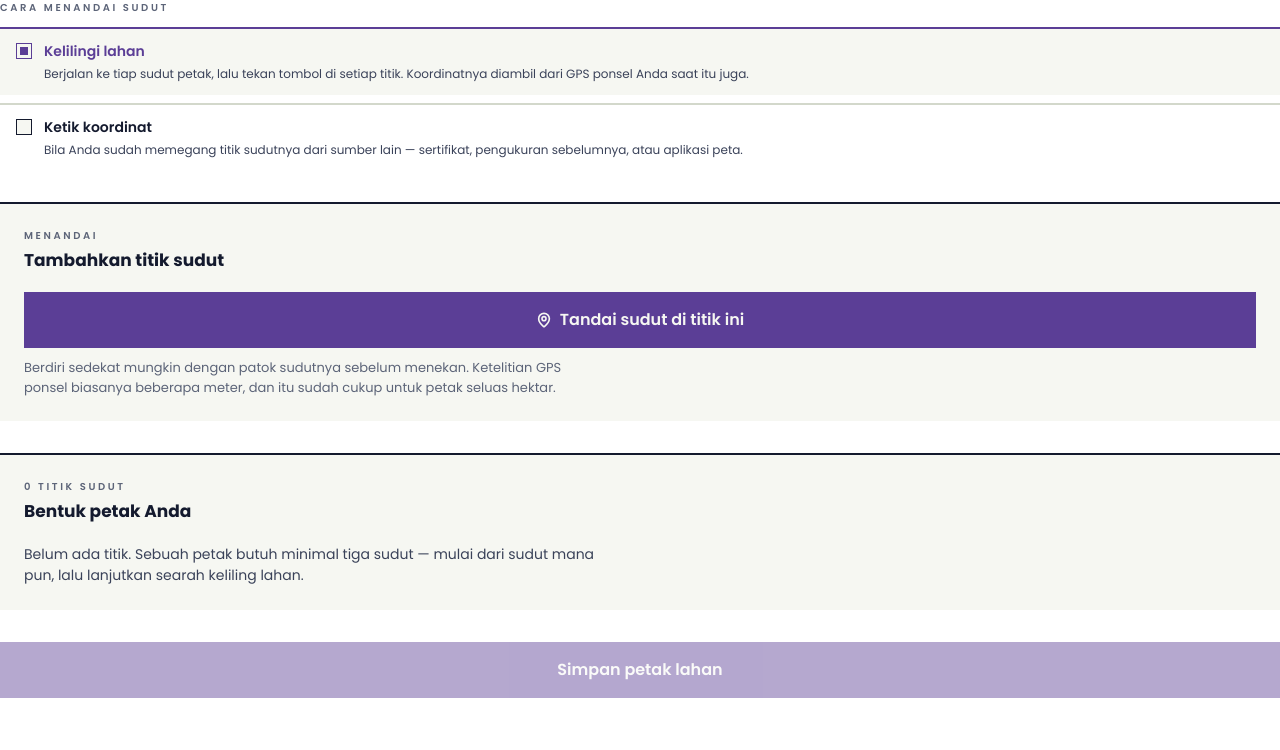
Scenario: tenant land polygon capture › offers manual capture when the browser has no geolocation support
The image size is (1280, 750).
Click the button "Tandai sudut di titik ini" at (640, 320), box x1=24 y1=292 x2=1256 y2=348
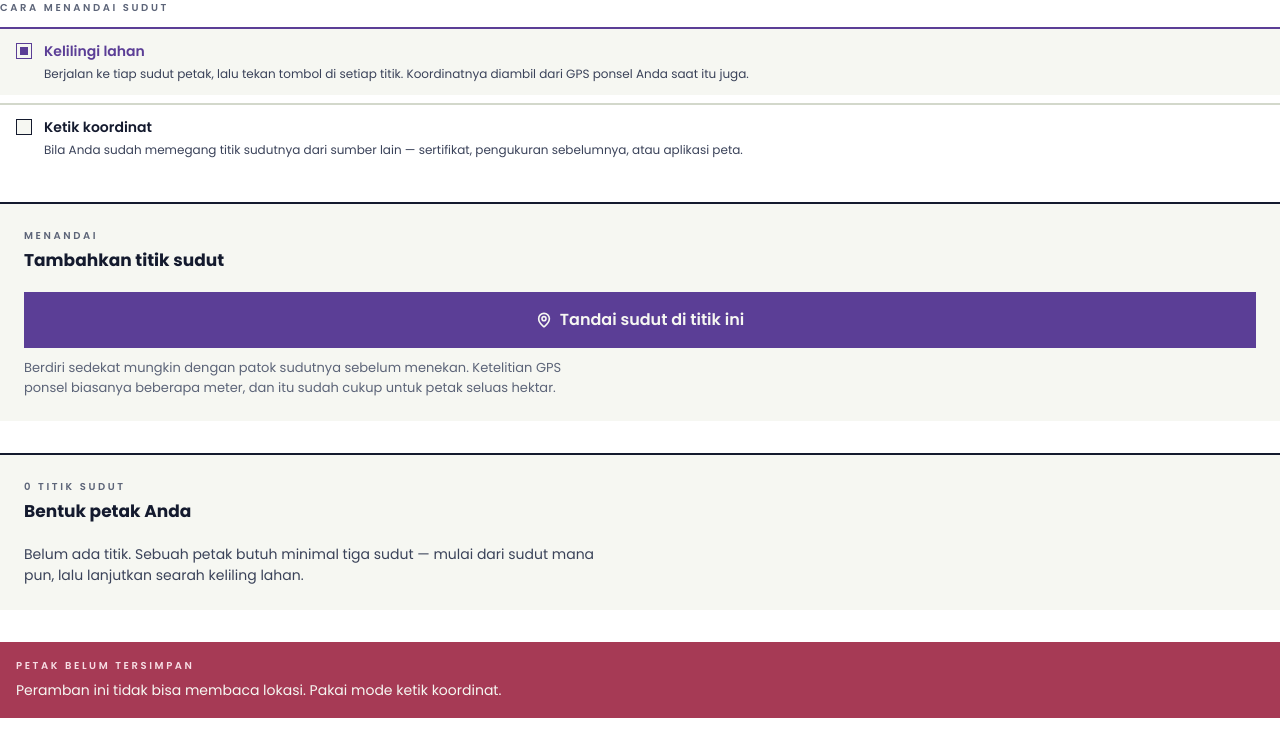
Check: the message shows "Peramban ini tidak bisa membaca lokasi", box x1=16 y1=680 x2=501 y2=700
